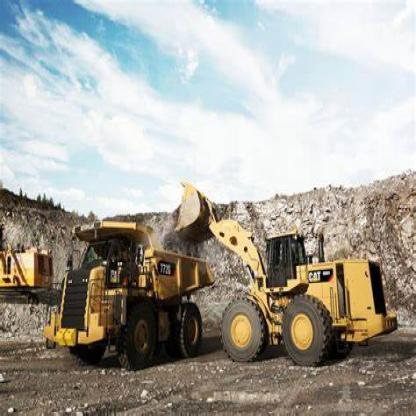bull_dozer/loader/grader: (172, 169, 407, 380)
